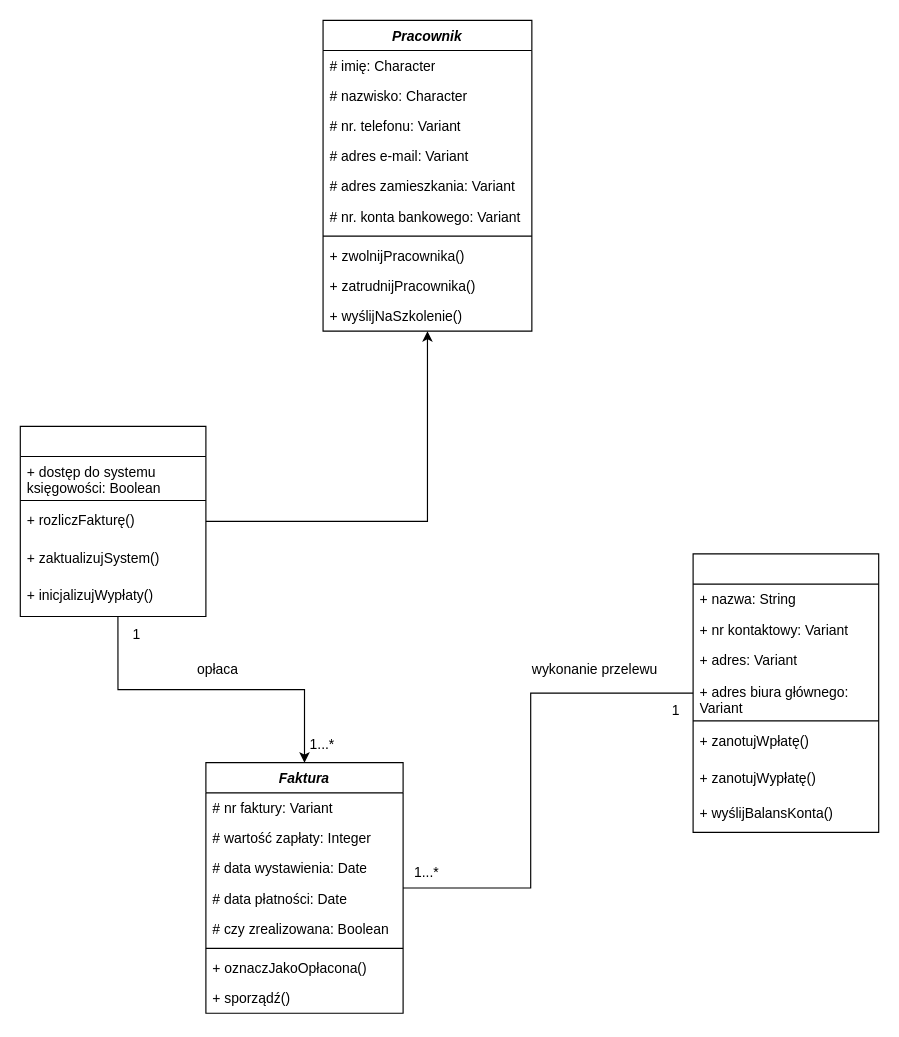
This 899x1037 diagram has some shape labels left out. Here are the shapes that lost their labels. From the top down, the box of each, then its label:
(19, 425, 206, 617): Księgowy: Pracownik
(692, 553, 879, 832): Bank
